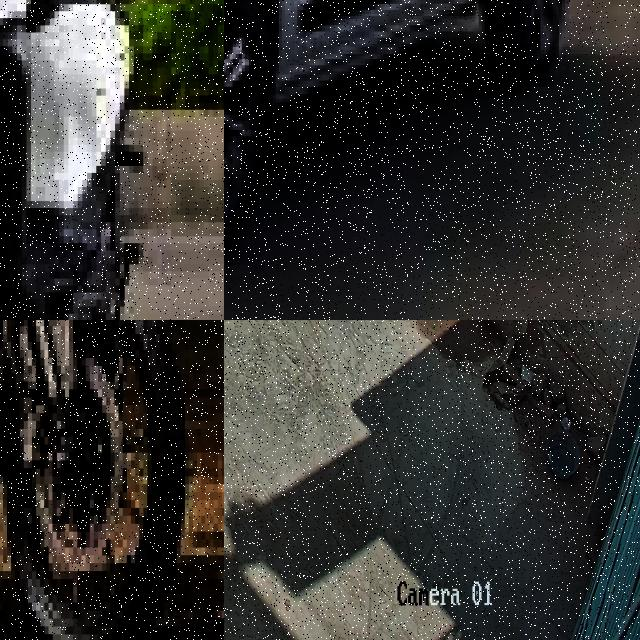bike: (0, 320, 189, 640), (0, 0, 148, 320)
car: (224, 0, 608, 253)
